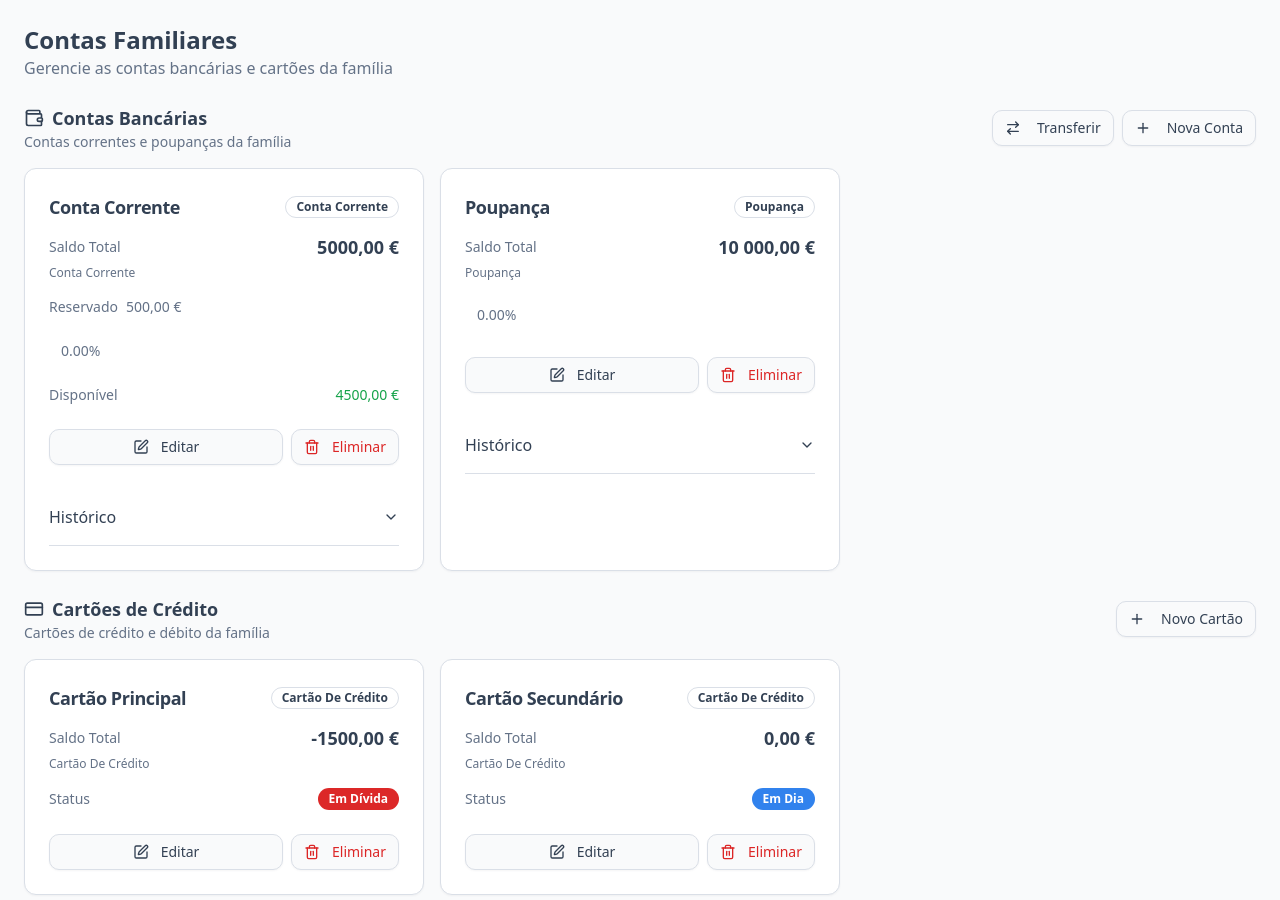
Scenario: FamilyAccounts - Cenários de Teste › Cenário 7: Operações CRUD › deve permitir eliminar conta com confirmação
The width and height of the screenshot is (1280, 900).
Expected: the heading "Conta Corrente" is shown, [49, 193, 180, 221]
Click the button "Eliminar" below "Disponível" at [345, 447], box [291, 429, 399, 465]
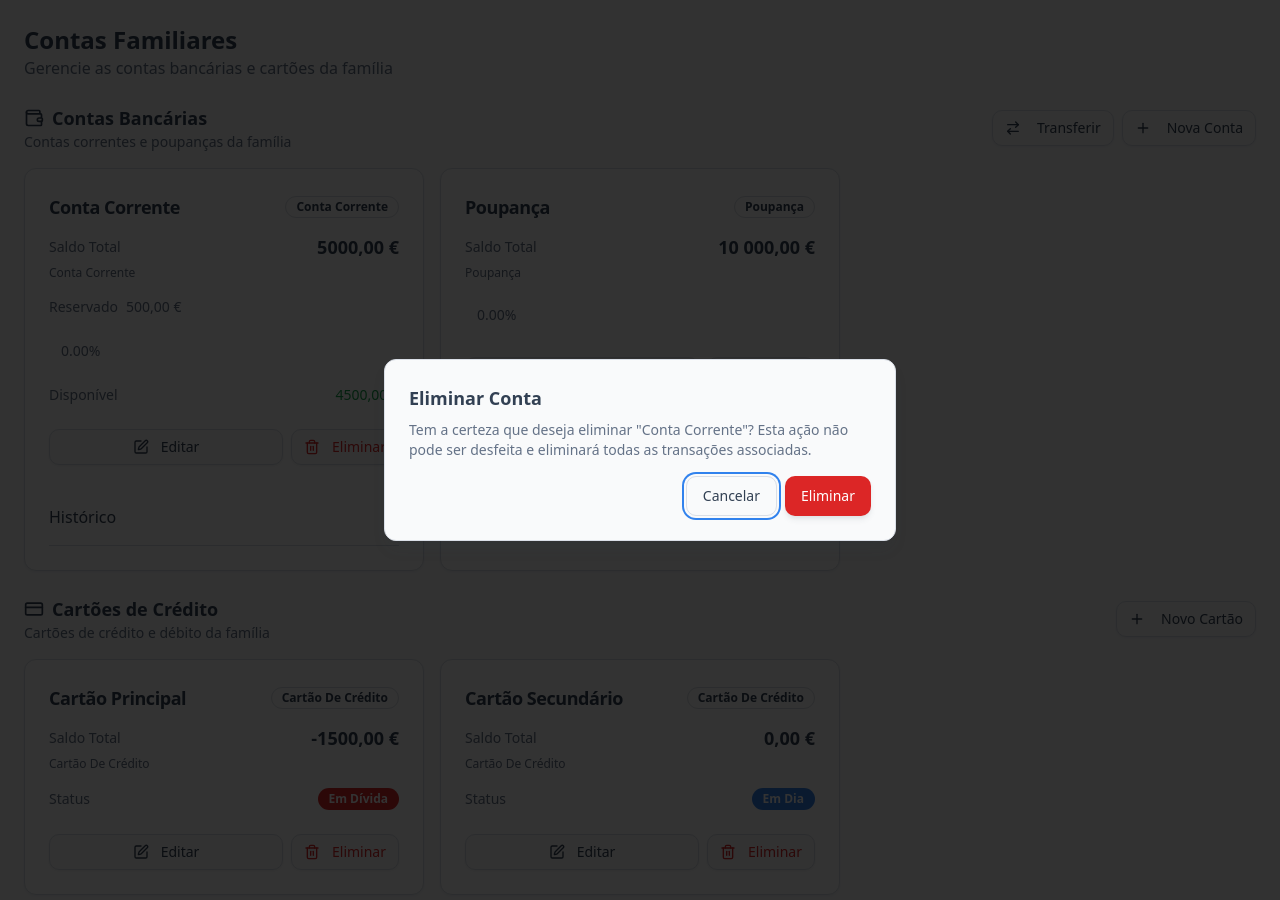
Now the heading "Eliminar Conta" is shown, box [409, 386, 542, 410]
Now the text "Tem a certeza que deseja eliminar" is shown, box [409, 420, 848, 459]
